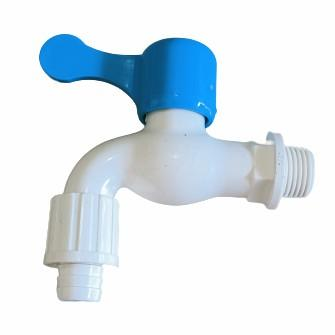PVC: (39, 33, 313, 303)
